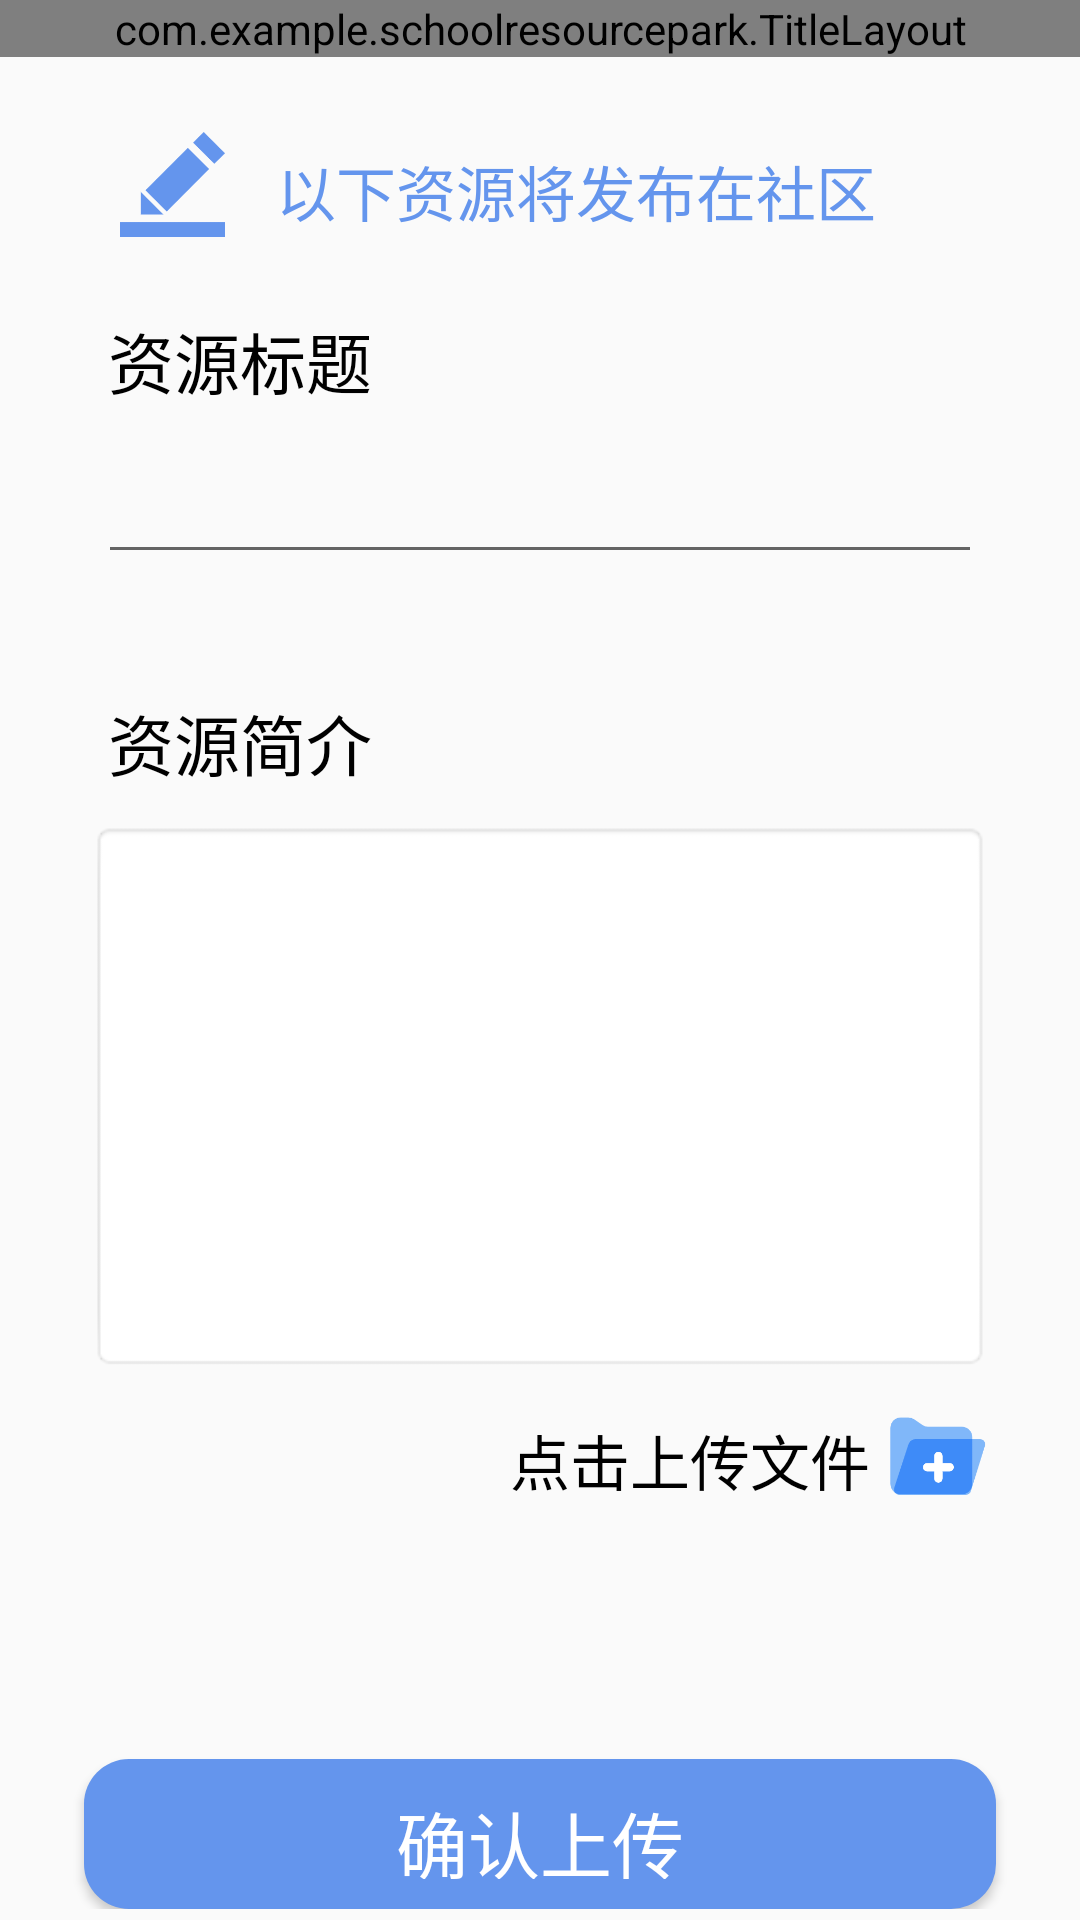

Screen size 1080w x 1920h. Icon name, then its box in pixels as (x1, y1, x2, y2):
pen: (120, 132, 225, 237)
